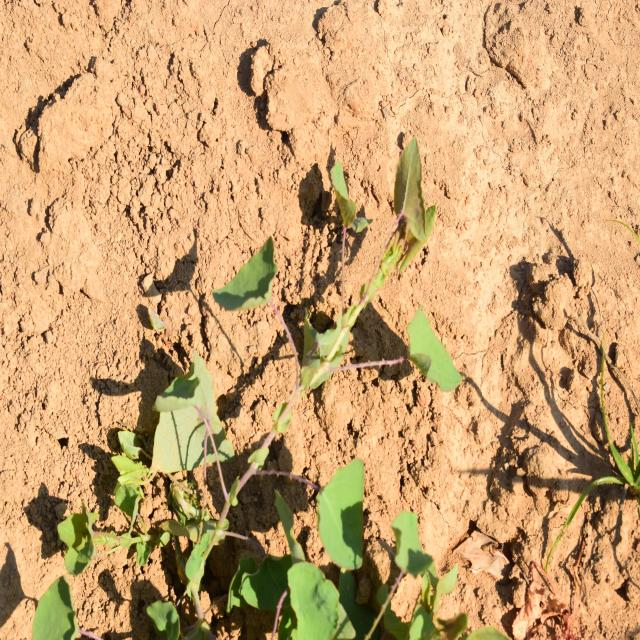Asiatic_Smartweed: (209, 155, 466, 402)
